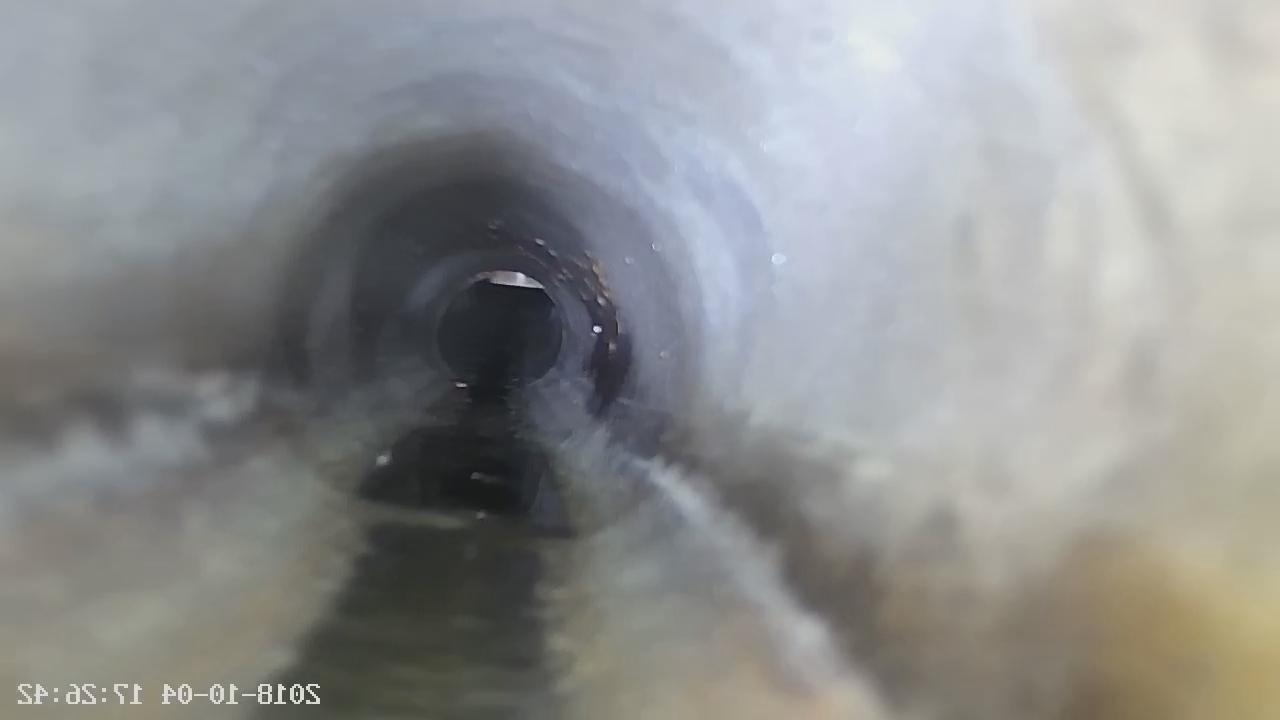ZGAJ: (477, 270, 544, 288)
